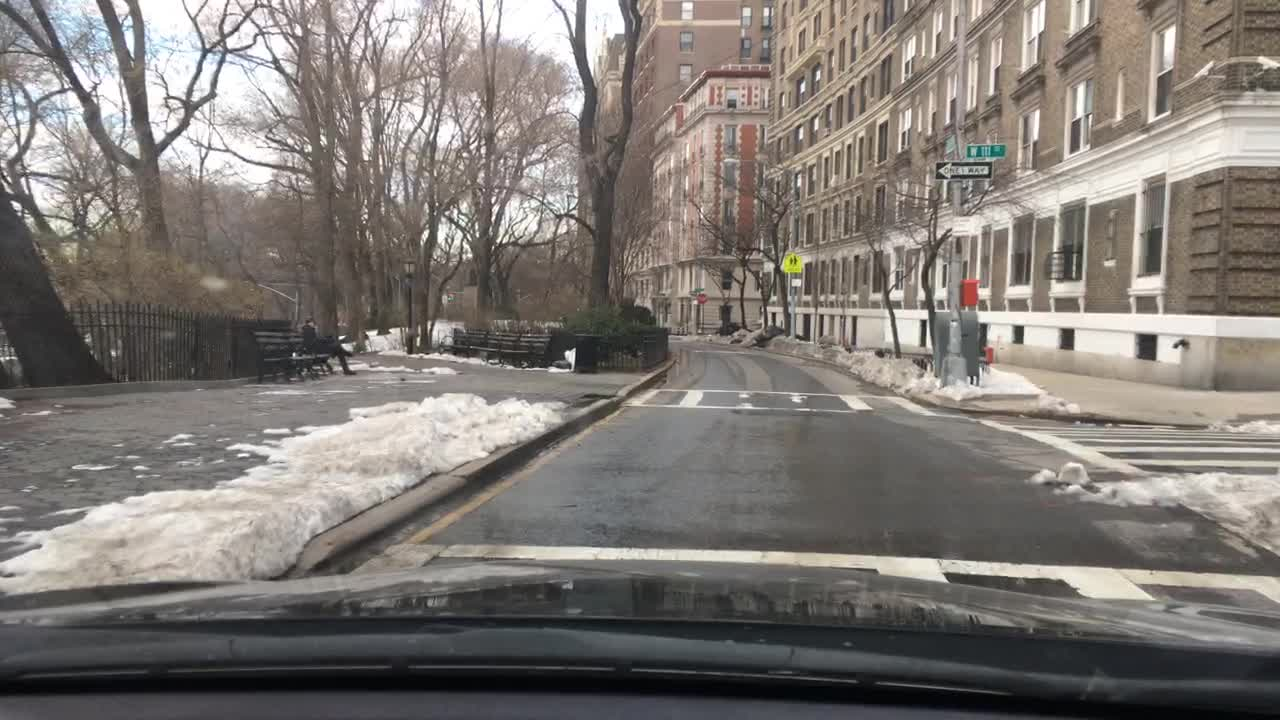car: (712, 320, 741, 334)
person: (300, 314, 354, 376)
traffic sign: (933, 162, 990, 179), (963, 142, 1004, 160), (783, 250, 805, 273), (692, 290, 707, 305), (943, 135, 955, 153)
